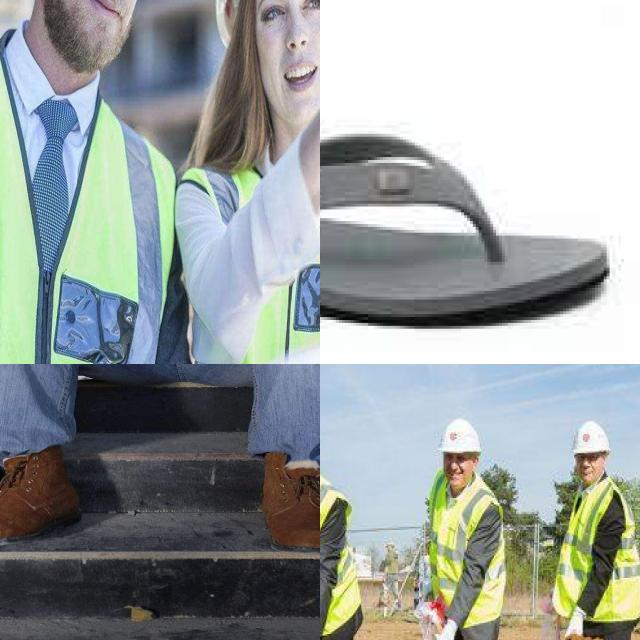No_Glasses: (248, 0, 320, 23)
Sandals: (320, 69, 640, 364)
face_nomask: (250, 0, 320, 124), (48, 0, 157, 69), (440, 452, 480, 492), (573, 447, 605, 488)
hand_glove: (561, 608, 588, 640), (437, 619, 461, 640)
head_helmet: (433, 422, 479, 457), (569, 421, 610, 453)
person: (0, 0, 178, 364), (26, 364, 320, 543), (181, 0, 320, 364), (413, 419, 509, 640), (554, 421, 640, 640), (320, 395, 352, 640)
shoes: (0, 449, 81, 548), (245, 449, 320, 555)
vest: (0, 57, 157, 364), (189, 168, 320, 364), (557, 479, 634, 629), (428, 479, 504, 629), (320, 475, 355, 634)
